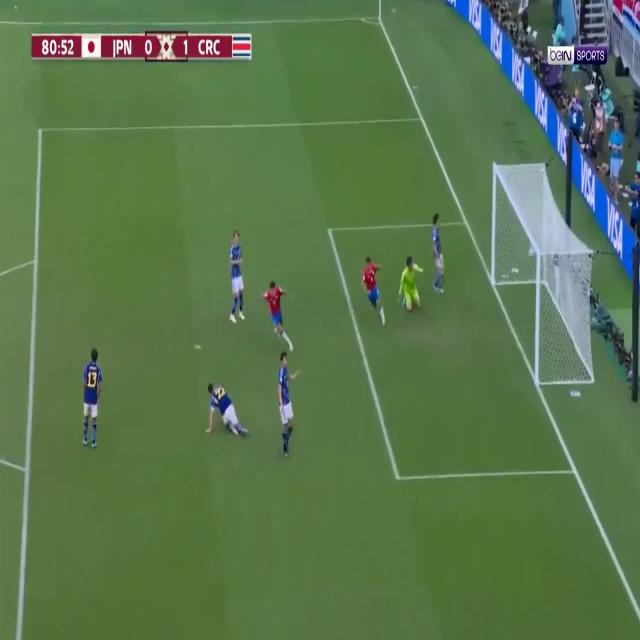GoalKeeper: (396, 256, 426, 316)
TEAM 1: (262, 274, 290, 349), (360, 254, 386, 319)
TEAM 2: (79, 343, 106, 457), (275, 352, 302, 456), (225, 229, 249, 324), (208, 381, 246, 440), (428, 215, 447, 294)
